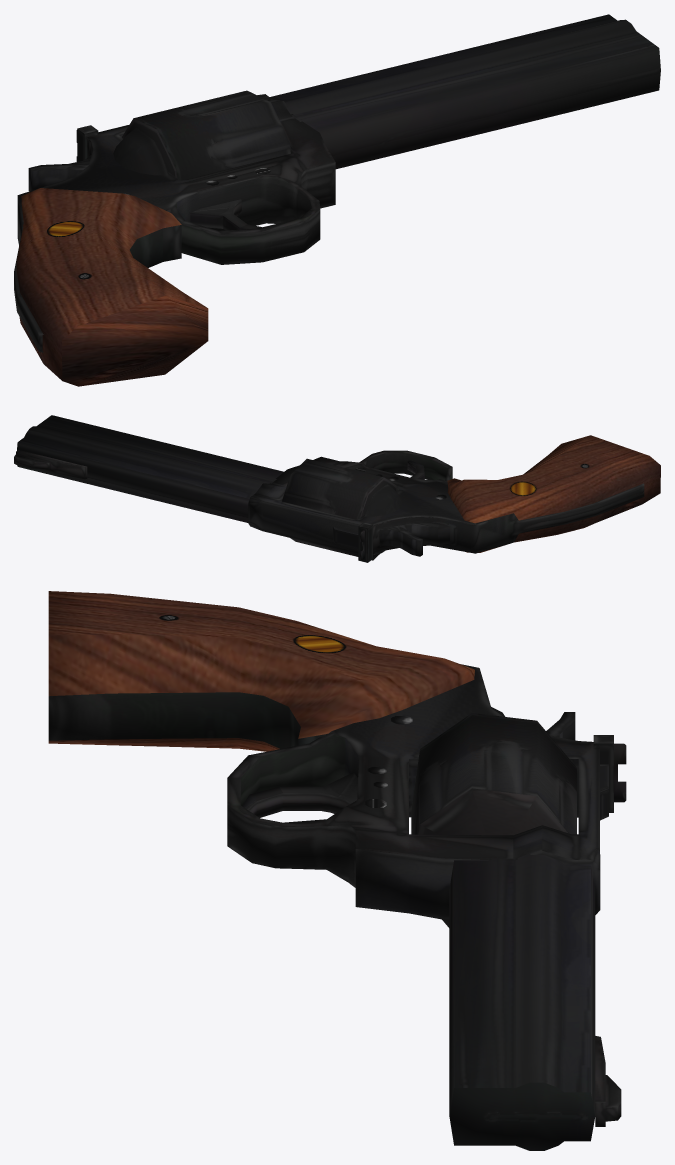
Rendered from pistol.obj.
The picture shows the model from 3 angles, top to bottom: view 1: azimuth 30°, elevation 25°; view 2: azimuth 150°, elevation 25°; view 3: azimuth 270°, elevation 25°; orthographic projection. The views are drawn at different scales.
Parts seen in each view (by area): view 1: revolver_Mesh; view 2: revolver_Mesh; view 3: revolver_Mesh.
Part boxes in pixels (x1,y1,x2,y2): revolver_Mesh: [14, 14, 660, 386]; revolver_Mesh: [14, 415, 660, 562]; revolver_Mesh: [48, 591, 626, 1150].
Bounding box in the file's own units: 2.65 × 0.3747 × 1.31.
1 material, 1 textured.
